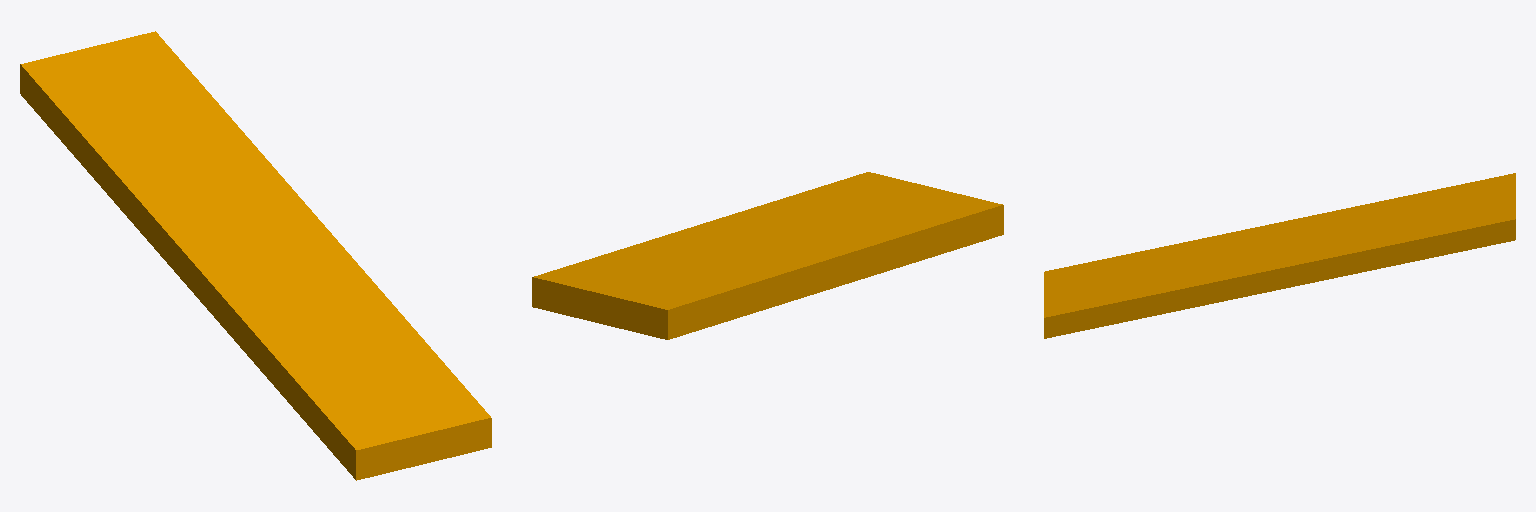
robot.urdf — choppedBacon:
<?xml version="1.0"?>
<robot name="choppedBacon">
  <link name="chop">
    <inertial>
        <origin rpy="0 0 0" xyz="0 0 0"/>
        <mass value="0.03"/>
        <inertia ixx="4.4e-5" ixy="0" ixz="0" iyy="0" iyz="0" izz="4.4e-5"/>
    </inertial>
    <visual>
      <geometry>
        <mesh filename="choppedBacon.obj"/>
      </geometry>
    </visual>
    <collision>
      <geometry>
        <mesh filename="choppedBacon.obj"/>
      </geometry>
      <surface>
           <bounce restitution_coefficient = "0.1"/>
      </surface>
    </collision>
  </link>
</robot>

--- What the picture shows (computed from the rendered views, not written in the file) ---
3 views of the same robot in one strip: view 1: azimuth 30°, elevation 25°; view 2: azimuth 150°, elevation 25°; view 3: azimuth 270°, elevation 25° (orthographic).
Robot: choppedBacon — 1 links, 0 joints (none); root link chop; default pose: every joint at zero.
Links seen in each view (by area): view 1: chop; view 2: chop; view 3: chop.
Boxes of the visible links, x1,y1,x2,y2 form: chop: [20, 31, 491, 480]; chop: [532, 172, 1003, 339]; chop: [1044, 173, 1515, 338].
Bounding box of the posed robot: 0.0151 × 0.065 × 0.0182 m (x, y, z).
Meshes: 1 distinct files referenced, 1 mesh visuals loaded (1 OBJ).
